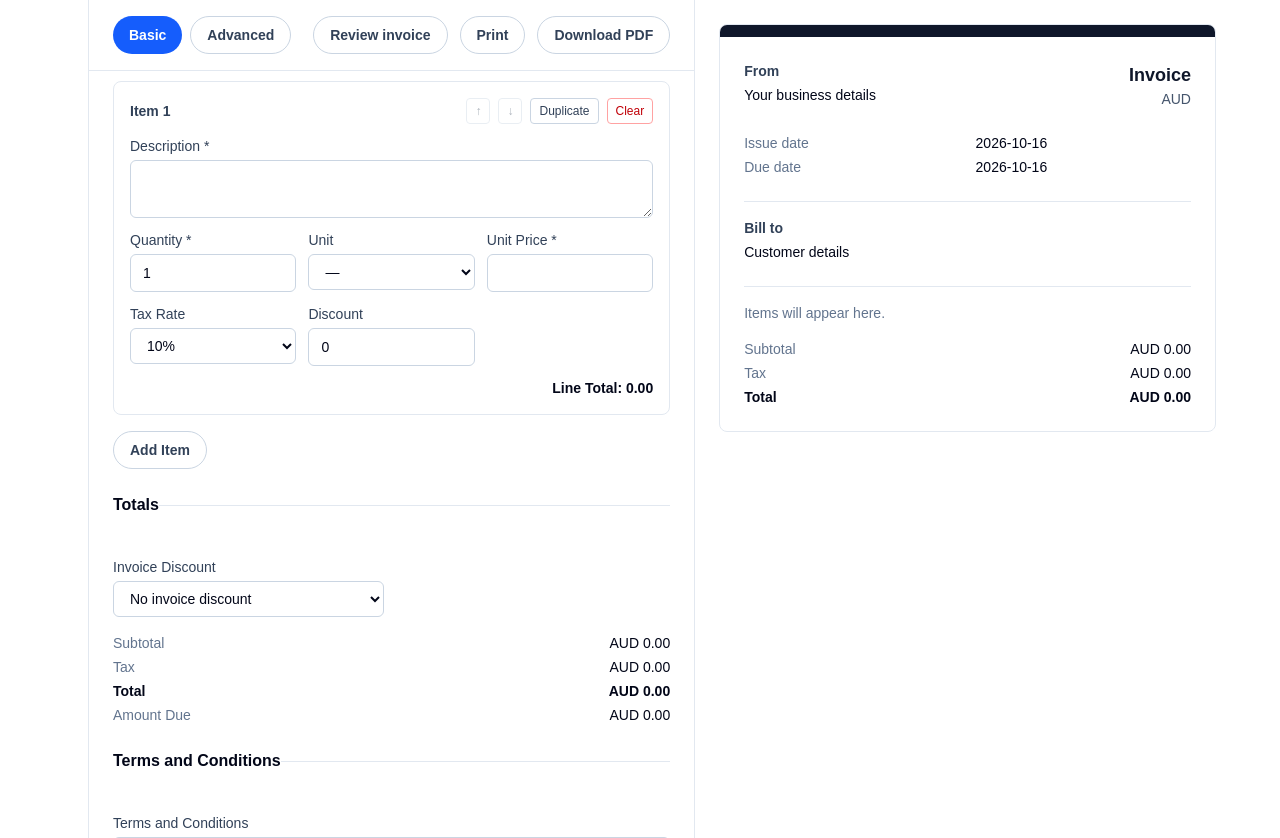
Test: CreateInvoiceEditor › adding a second line item is reflected in the editor and the preview
This screenshot has width=1280, height=838.
(page scrolled)
Step 1. Click the button "Add Item" → (160, 450), box [113,431,207,469]
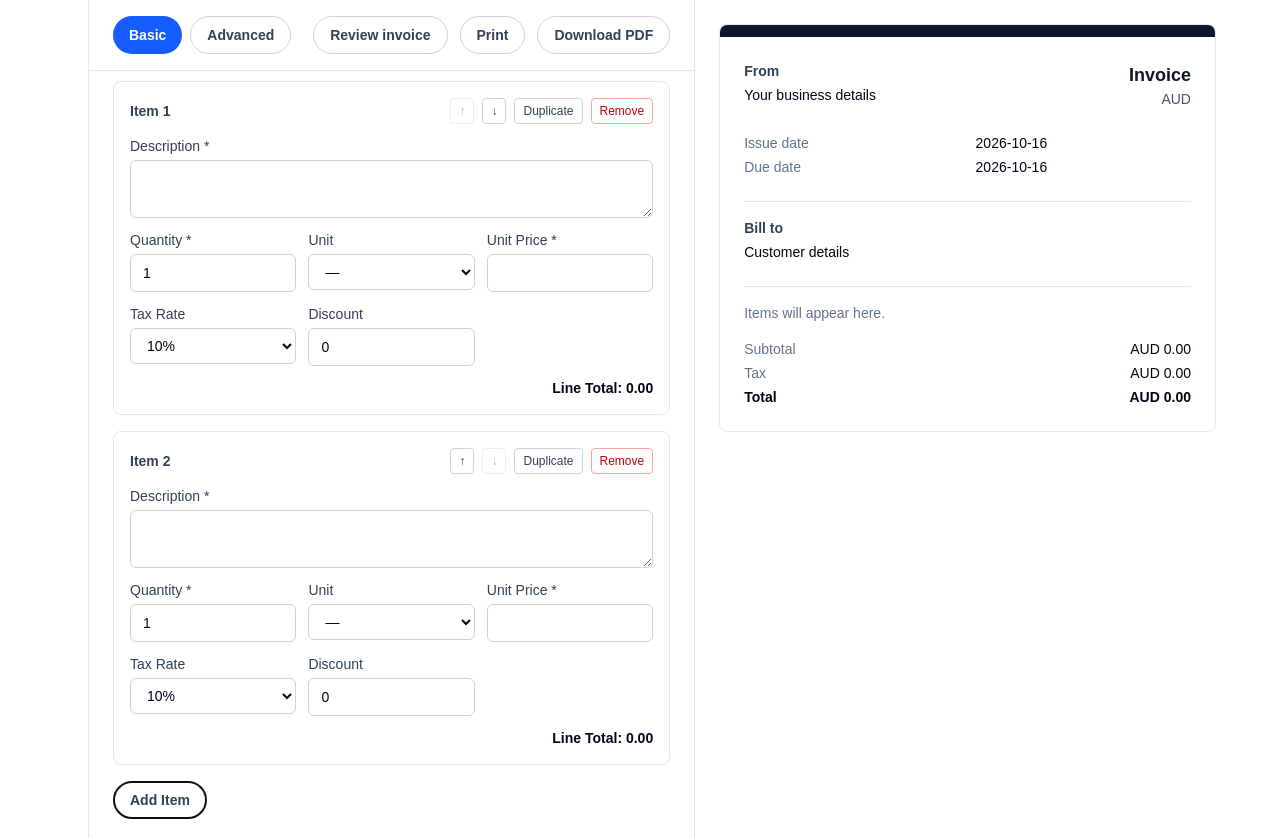
Expected: the text "Item 1" is shown 2 times, [130,101,170,121]; [130,451,170,471]
